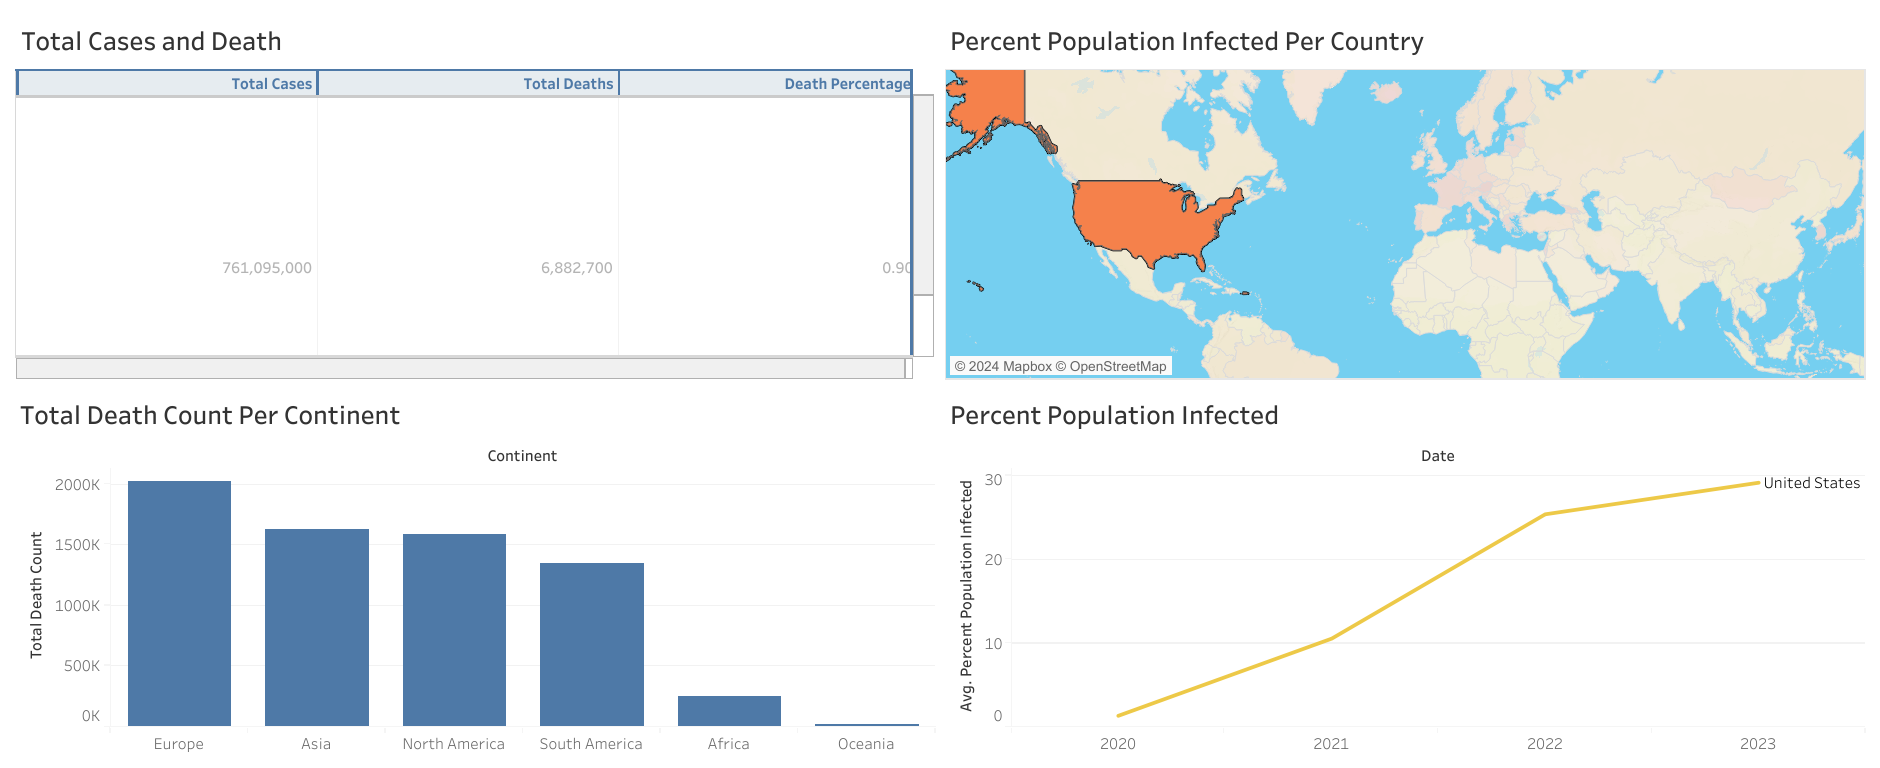

The dashboard page shown, as its layout file describes it:
{"tool":"tableau","page":{"name":"Covid Dashboard","canvas":[1000,1000],"units":"permille","ordinal":0},"visuals":[{"type":"worksheet","title":"Sheet 1","mark":"Automatic","box":[4.8,9.4,495.1,490.6]},{"type":"worksheet","title":"Sheet 3","mark":"Automatic","box":[500,9.4,495.2,490.6]},{"type":"worksheet","title":"Sheet 2","mark":"Automatic","rows":["TotalDeathCount"],"cols":["location"],"box":[4.8,500,495.1,490.6]},{"type":"worksheet","title":"Sheet 4","mark":"Automatic","rows":["PercentPopulationInfected"],"cols":["date"],"box":[500,500,495.2,490.6]}]}

Visuals, with their boxes on the dashboard's canvas, which has no fixed pixel size, in thousandths of its width and height (x1, y1, x2, y2). These are canvas units, not pixel positions in the 1880x768 screenshot, which may show the page scaled, cropped or inside an application window:
"Sheet 1" worksheet: (5,9,500,500)
"Sheet 3" worksheet: (500,9,995,500)
"Sheet 2" worksheet: (5,500,500,991)
"Sheet 4" worksheet: (500,500,995,991)
